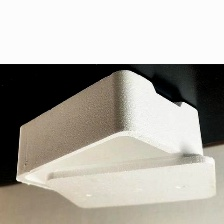foam_box: (12, 66, 220, 213)
